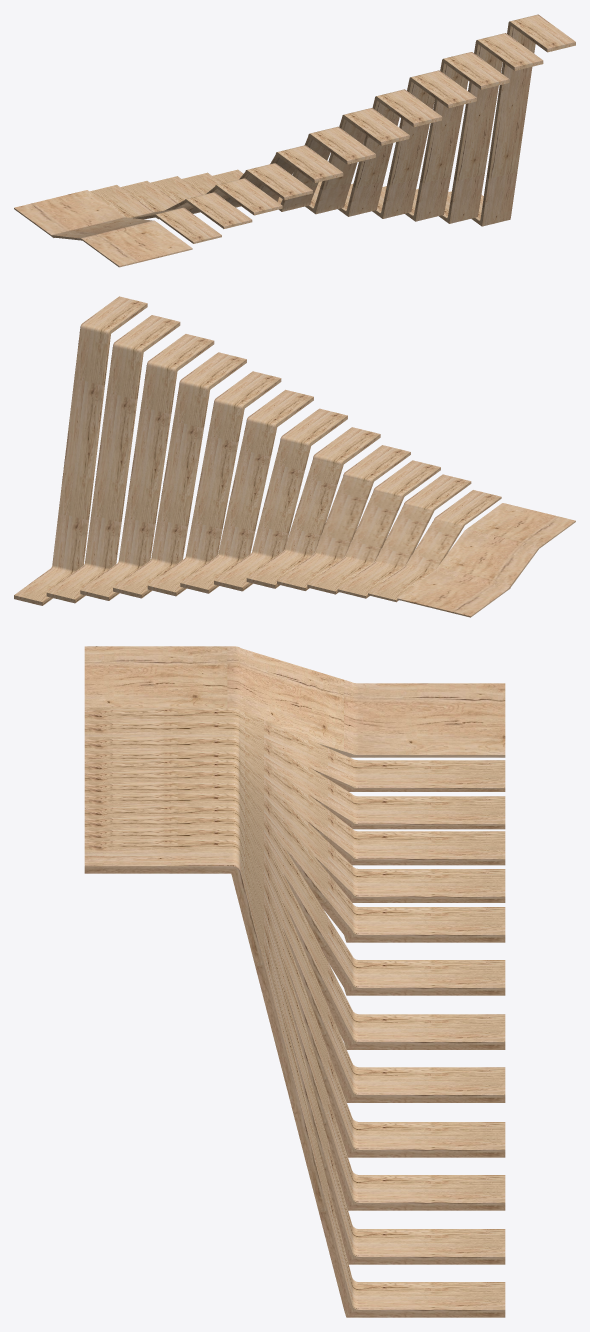
The model's file is woodenStairs.fbx.
The picture shows the model from 3 angles, top to bottom: view 1: azimuth 30°, elevation 25°; view 2: azimuth 150°, elevation 25°; view 3: azimuth 270°, elevation 25°; orthographic projection. The views are drawn at different scales.
Parts seen in each view (by area): view 1: Cube.041, Cube.030, Cube.029, Cube.032, Cube.031, Cube.034, Cube.033, Cube.040, Cube.039, Cube.036, Cube.038, Cube.037 (+1 smaller); view 2: Cube.030, Cube.029, Cube.041, Cube.032, Cube.031, Cube.034, Cube.033, Cube.036, Cube.035, Cube.037, Cube.038, Cube.039 (+1 smaller); view 3: Cube.041, Cube.030, Cube.034, Cube.032, Cube.036, Cube.029, Cube.033, Cube.031, Cube.039, Cube.035, Cube.038, Cube.040 (+1 smaller).
Part boxes in pixels (x1,y1,x2,y2): Cube.041: (14, 190, 192, 267); Cube.030: (449, 14, 575, 226); Cube.029: (416, 33, 543, 223); Cube.032: (382, 52, 509, 221); Cube.031: (350, 70, 476, 218); Cube.034: (318, 89, 442, 216); Cube.033: (305, 108, 409, 214); Cube.040: (90, 185, 221, 243); Cube.039: (120, 181, 252, 228); Cube.036: (278, 126, 375, 211); Cube.038: (150, 176, 282, 215); Cube.037: (182, 163, 312, 207); Cube.030: (14, 296, 147, 605); Cube.029: (46, 315, 180, 603); Cube.041: (397, 503, 575, 617); Cube.032: (80, 334, 214, 600); Cube.031: (113, 352, 246, 598); Cube.034: (147, 371, 281, 596); Cube.033: (180, 389, 313, 593); Cube.036: (214, 408, 347, 591); Cube.035: (246, 427, 380, 588); Cube.037: (277, 445, 410, 590); Cube.038: (307, 460, 440, 594); Cube.039: (337, 474, 471, 598); Cube.041: (84, 646, 505, 757); Cube.030: (84, 838, 505, 1317); Cube.034: (84, 792, 505, 1102); Cube.032: (84, 815, 505, 1210); Cube.036: (84, 769, 505, 995); Cube.029: (84, 827, 505, 1264); Cube.033: (84, 781, 505, 1049); Cube.031: (84, 805, 505, 1157); Cube.039: (84, 720, 505, 829); Cube.035: (84, 759, 505, 942); Cube.038: (84, 736, 505, 865); Cube.040: (84, 707, 505, 791).
Bounding box in the file's own units: 1358 × 641 × 542.
